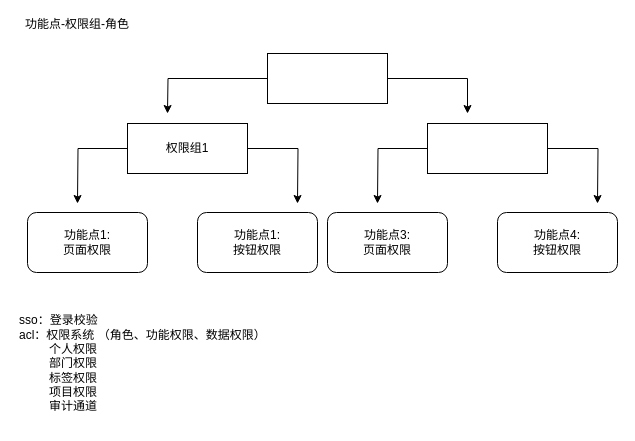
Some shapes in this 635 by 441 pixel diagram are drawn without their labels. The shapes that lost their labels are listed below. From the top down, each one's centre as x and y in pixels, then its label:
At point (327, 78): "角色1".
At point (487, 148): "权限组2".
